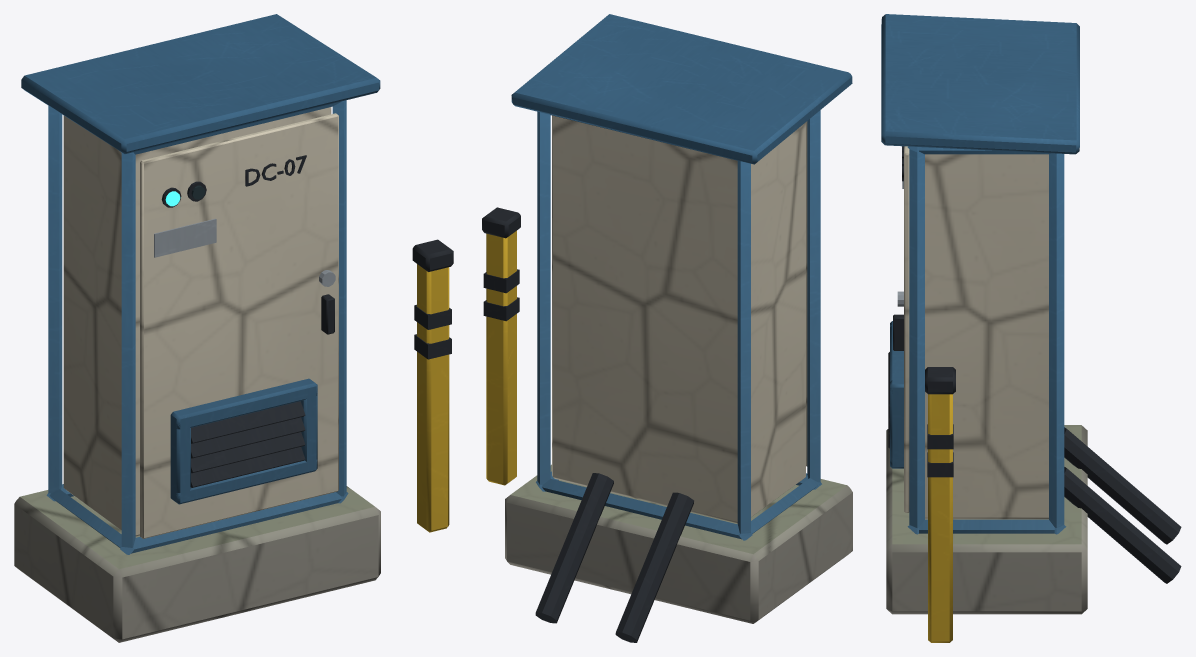
Rendered from data_cabinet.glb.
3 renders of one model, left to right at view 1: azimuth 30°, elevation 25°; view 2: azimuth 150°, elevation 25°; view 3: azimuth 270°, elevation 25°, orthographic. The views are drawn at different scales.
Visible parts, largest first — view 1: data_cabinet.001; view 2: data_cabinet.001; view 3: data_cabinet.001.
Boxes of the visible parts, bbox=[...] form: data_cabinet.001: bbox=[14, 14, 453, 642]; data_cabinet.001: bbox=[482, 14, 852, 642]; data_cabinet.001: bbox=[881, 14, 1181, 642].
Bounding box in the file's own units: 1.28 × 1.75 × 0.9677.
9 materials, 8 textured.
